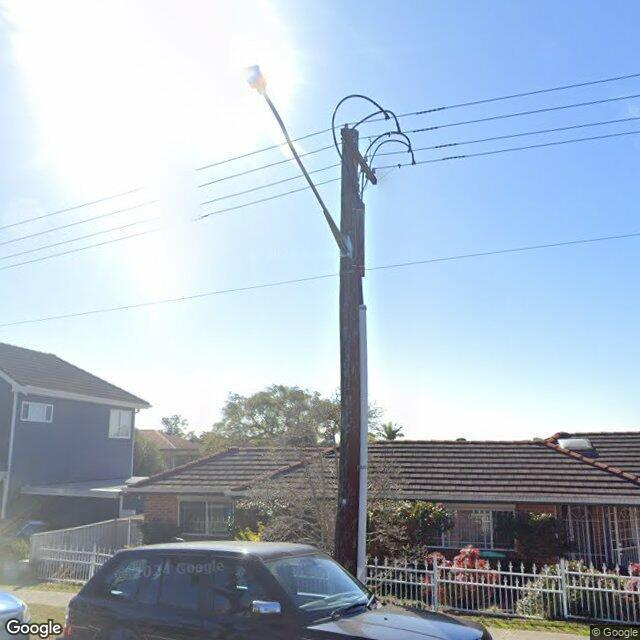crossarm: (339, 130, 379, 186)
streetlight: (245, 63, 352, 257)
timber-pole: (332, 125, 367, 586)
